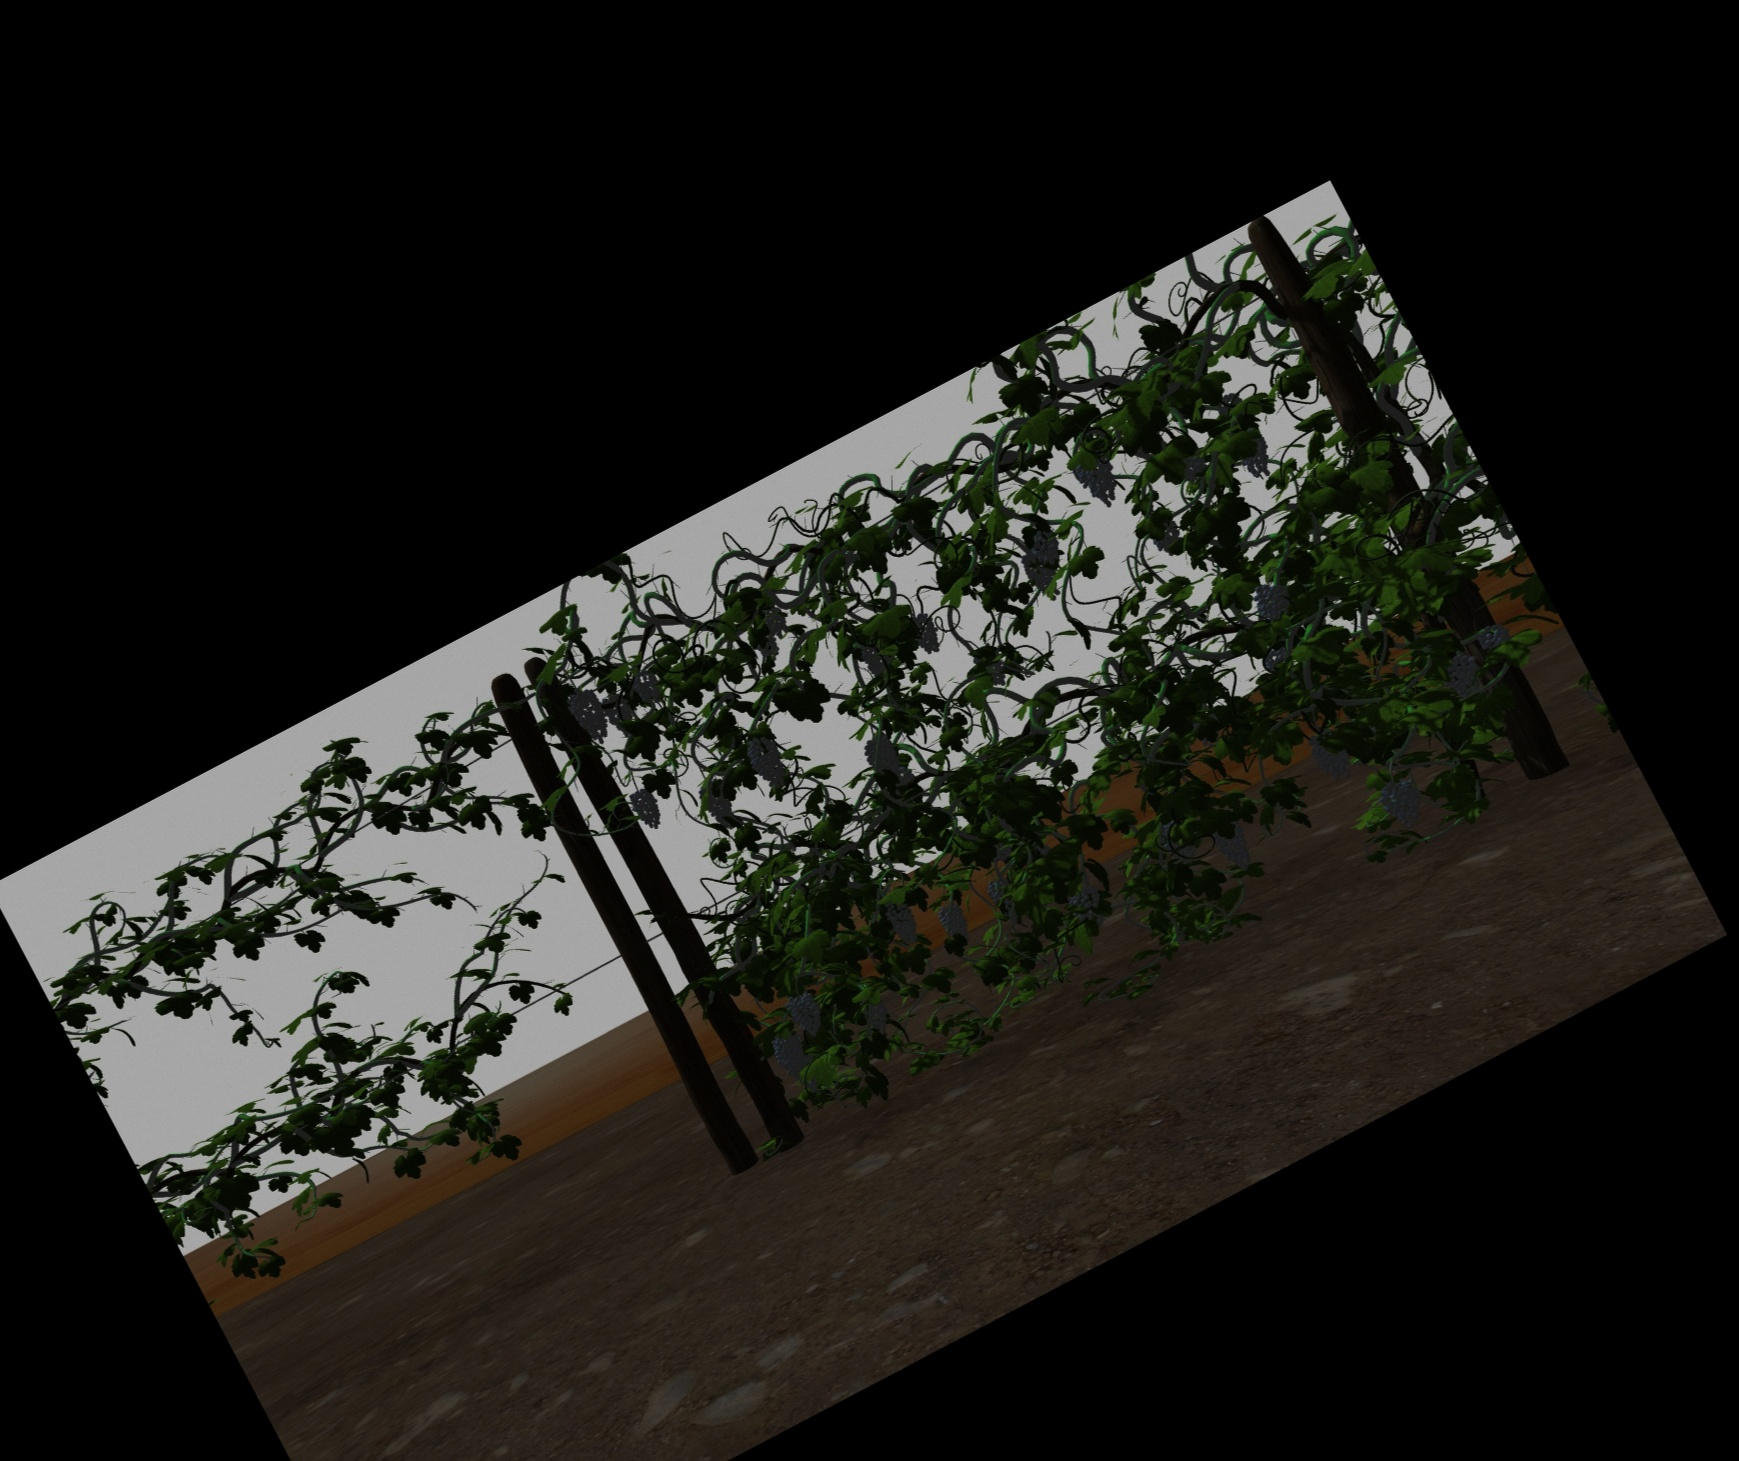grape: (1387, 778, 1423, 828), (1081, 454, 1116, 504), (1314, 729, 1349, 778), (575, 690, 603, 744), (752, 733, 780, 784), (1220, 823, 1249, 871), (868, 733, 898, 778), (1240, 430, 1269, 475), (1027, 551, 1054, 600), (1448, 654, 1481, 691), (793, 991, 822, 1033), (1256, 580, 1288, 617), (704, 781, 730, 826), (777, 1033, 804, 1075), (893, 902, 917, 945), (914, 612, 938, 654), (609, 693, 633, 732), (943, 902, 967, 942), (636, 788, 659, 828), (1035, 528, 1058, 562), (636, 673, 661, 704), (1480, 622, 1511, 646), (867, 999, 888, 1033), (988, 877, 1013, 907), (1072, 886, 1098, 912)
